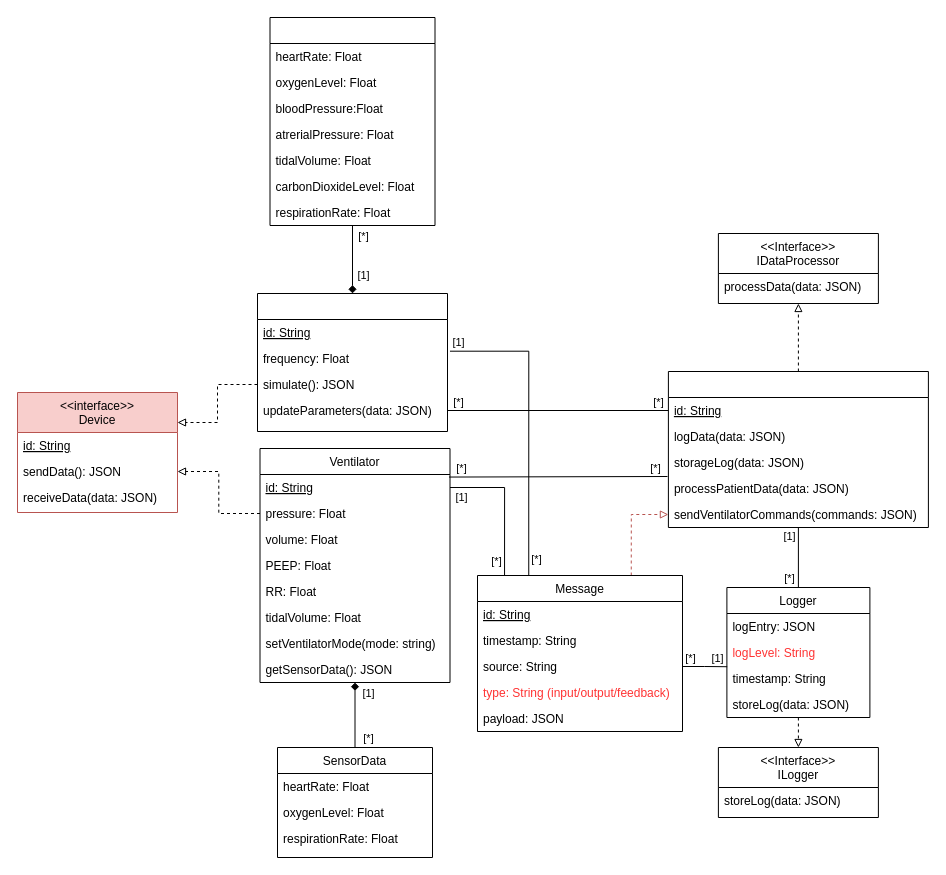
Some shapes in this 946 by 875 pixel diagram are drawn without their labels. Each missing label, with the box of its shape:
DigitalTwin: (667, 370, 928, 528)
PatientSimulator: (256, 292, 448, 432)
PhysiologicalData: (269, 16, 435, 226)
